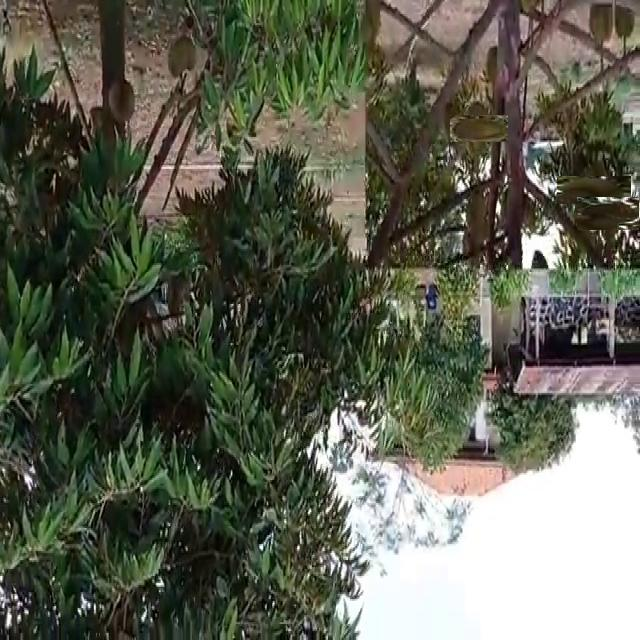durian: (569, 164, 620, 216), (585, 188, 634, 238), (457, 107, 500, 150), (464, 186, 491, 246), (583, 3, 617, 49), (613, 2, 636, 41)
